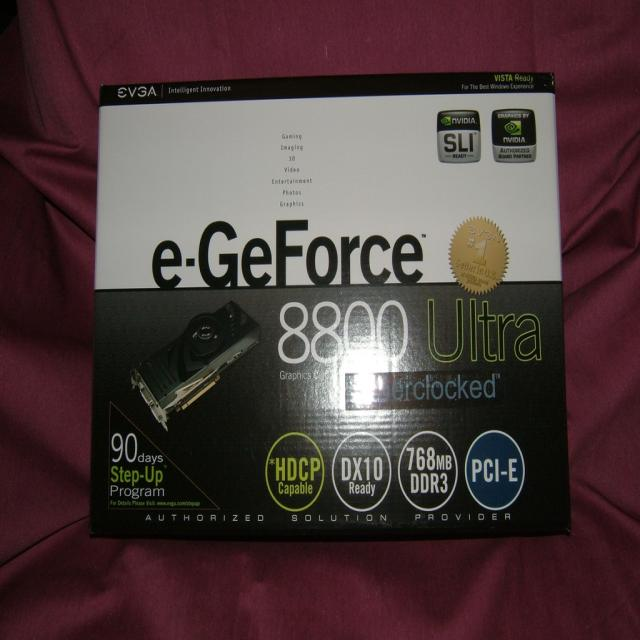nvidia: (506, 120, 524, 137), (442, 116, 453, 127)
